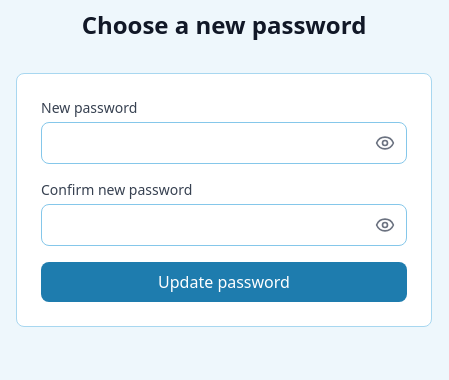
Test: ResetPasswordPage › surfaces the server error when the token is expired
Type "brand-new-pw" into the password field labelled "New password". click: (224, 143)
box: [41,122,407,164]
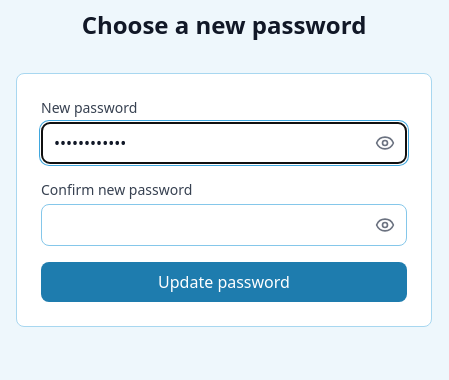
Type "brand-new-pw" into the password field labelled "Confirm new password". click: (224, 225)
box: [41,204,407,246]
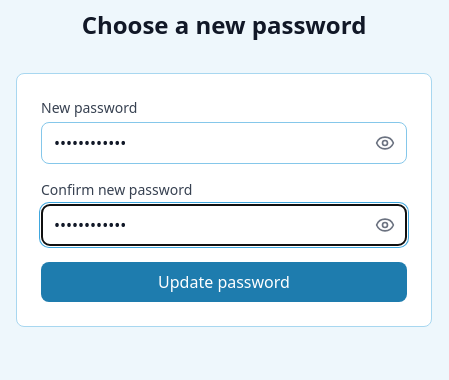
Click the button "Update password". click: (224, 282)
box: [41,262,407,302]
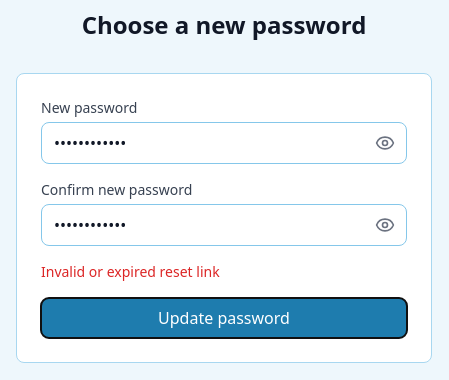
expect the text "Invalid or expired reset link" is shown: met, box [41,262,220,281]
